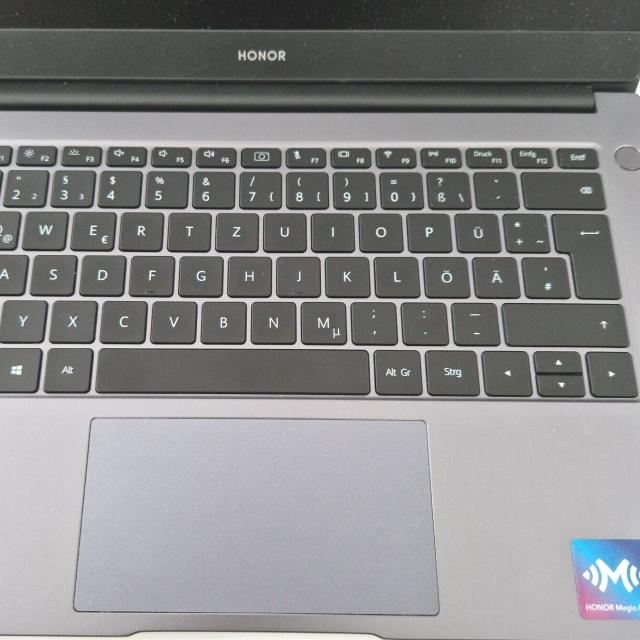0: (377, 169, 423, 208)
1: (0, 165, 23, 205)
2: (1, 166, 47, 205)
3: (49, 166, 95, 206)
4: (97, 167, 140, 206)
5: (143, 168, 187, 207)
6: (190, 168, 234, 208)
7: (237, 169, 281, 208)
8: (284, 169, 327, 208)
9: (331, 169, 375, 208)
a: (0, 251, 27, 294)
accent: (471, 168, 517, 208)
ae: (470, 254, 519, 297)
alt-left: (42, 345, 91, 392)
altgr-right: (371, 347, 421, 394)
b: (198, 298, 246, 343)
c: (98, 297, 147, 343)
caret: (0, 167, 18, 205)
comma: (348, 298, 396, 343)
d: (77, 251, 124, 295)
del: (519, 169, 602, 209)
e: (69, 208, 116, 250)
enter: (550, 210, 621, 299)
f: (128, 252, 174, 295)
g: (176, 253, 222, 296)
h: (225, 253, 271, 296)
hash: (520, 254, 570, 297)
i: (309, 210, 354, 251)
j: (274, 253, 319, 295)
k: (323, 253, 370, 296)
keyboard: (0, 133, 640, 413)
l: (372, 253, 419, 296)
less: (0, 296, 25, 342)
m: (298, 298, 346, 344)
minus: (449, 299, 498, 344)
n: (248, 299, 296, 343)
o: (356, 210, 402, 252)
oe: (421, 254, 469, 297)
p: (405, 210, 451, 251)
plus: (501, 210, 548, 252)
point: (399, 299, 448, 343)
q: (0, 208, 24, 250)
r: (117, 209, 163, 250)
s: (28, 252, 76, 295)
shift-left: (0, 297, 27, 342)
shift-lock: (0, 251, 38, 294)
shift-right: (499, 300, 628, 345)
space: (92, 346, 370, 393)
ss: (424, 168, 470, 208)
strg-left: (0, 344, 27, 392)
strg-right: (423, 348, 479, 395)
t: (166, 210, 210, 251)
tab: (0, 207, 31, 248)
u: (261, 210, 306, 251)
ue: (453, 210, 500, 252)
v: (147, 298, 197, 343)
w: (20, 208, 66, 250)
x: (46, 297, 96, 342)
y: (0, 297, 46, 342)
z: (213, 210, 258, 251)
